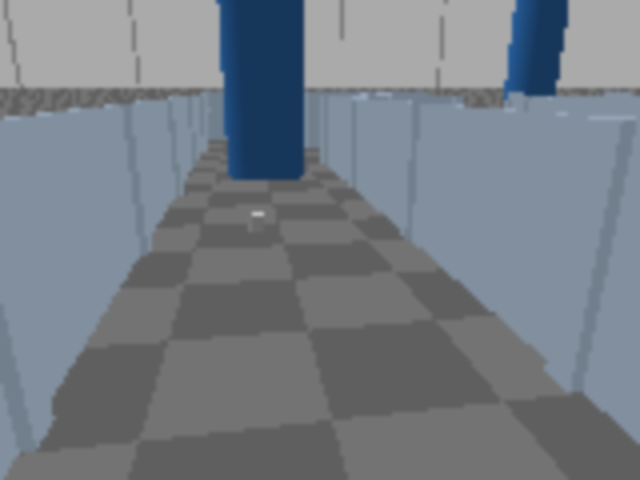puck: (247, 213, 265, 231)
